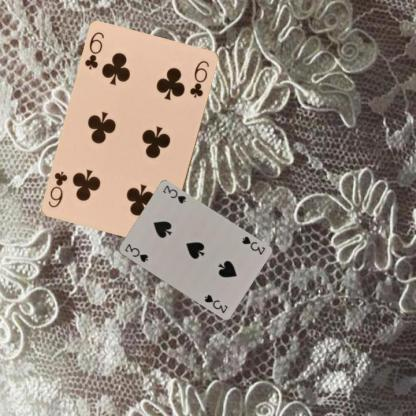3s: (122, 241, 149, 263), (239, 234, 266, 256)
6c: (82, 30, 106, 71)
